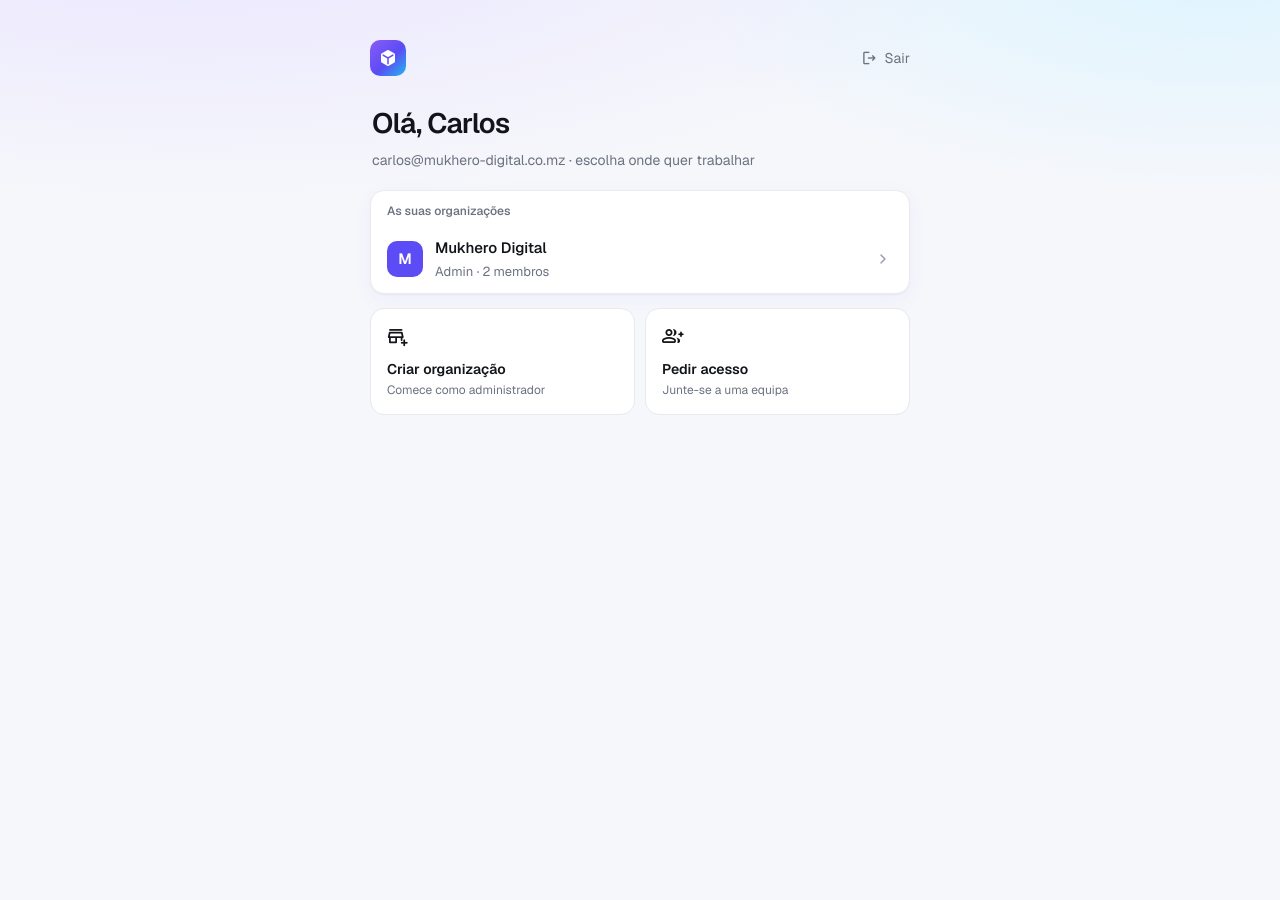
Test: routing & auth › validates the create-organisation form
Click the button "Criar organização Comece como administrador" at (502, 362), box [370,308,635,415]
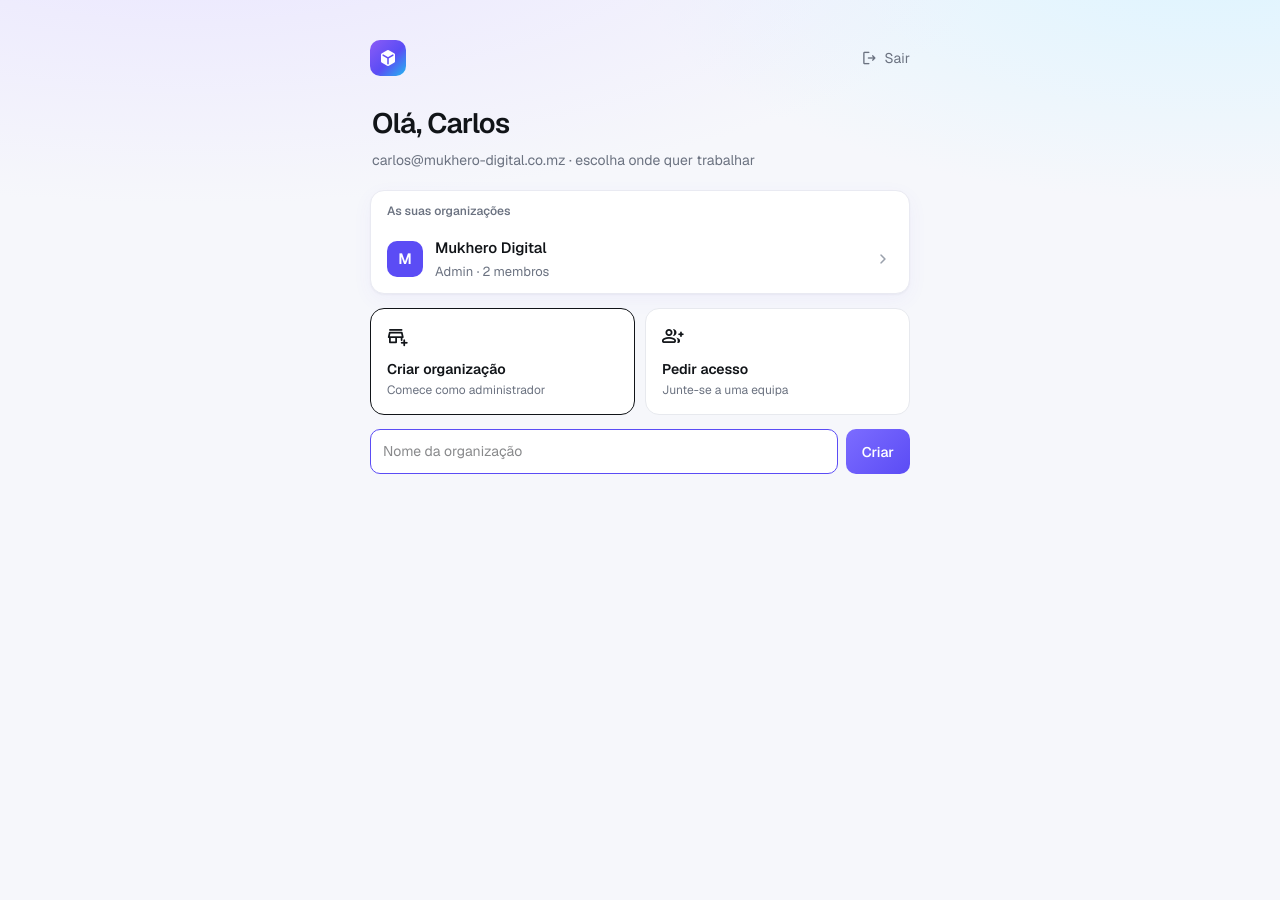
Click the button "Criar" at (878, 452), box [846,429,910,474]
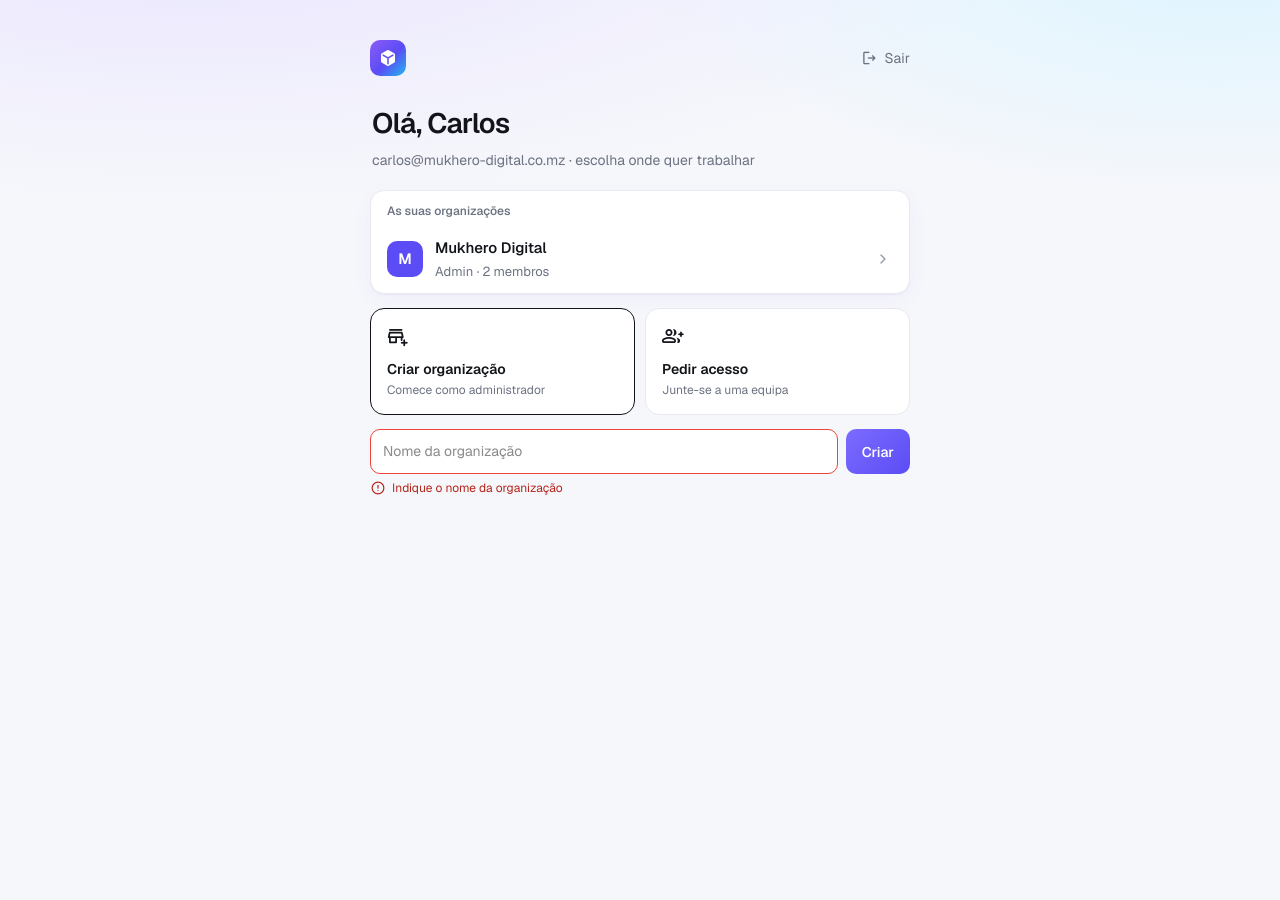
Expected: the text "Indique o nome da organização" is shown, [370,478,563,498]
Type "Loja Nova" into the field labelled "Nome da organização" at (604, 452), box [370,429,838,474]
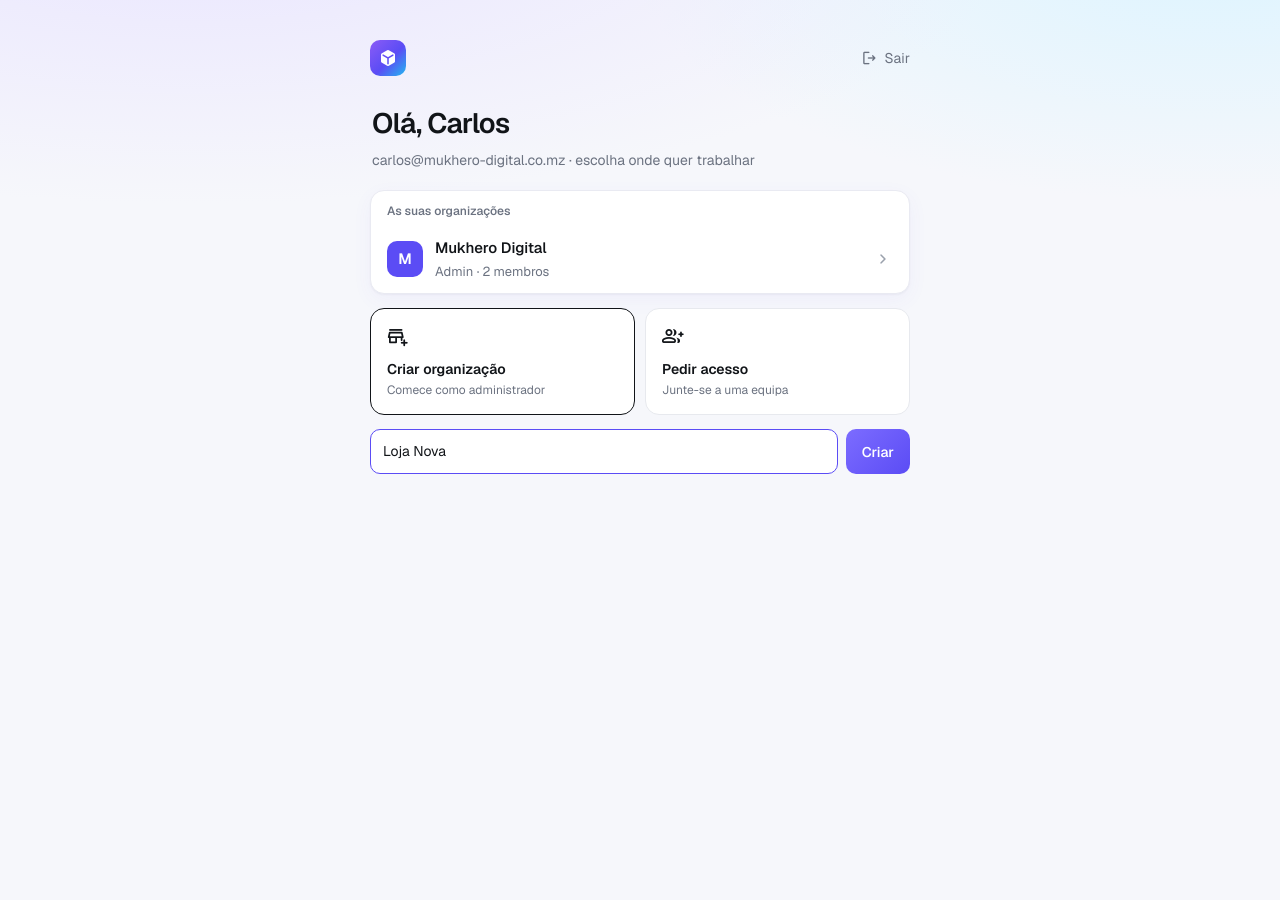
Click the button "Criar" at (878, 452), box [846,429,910,474]
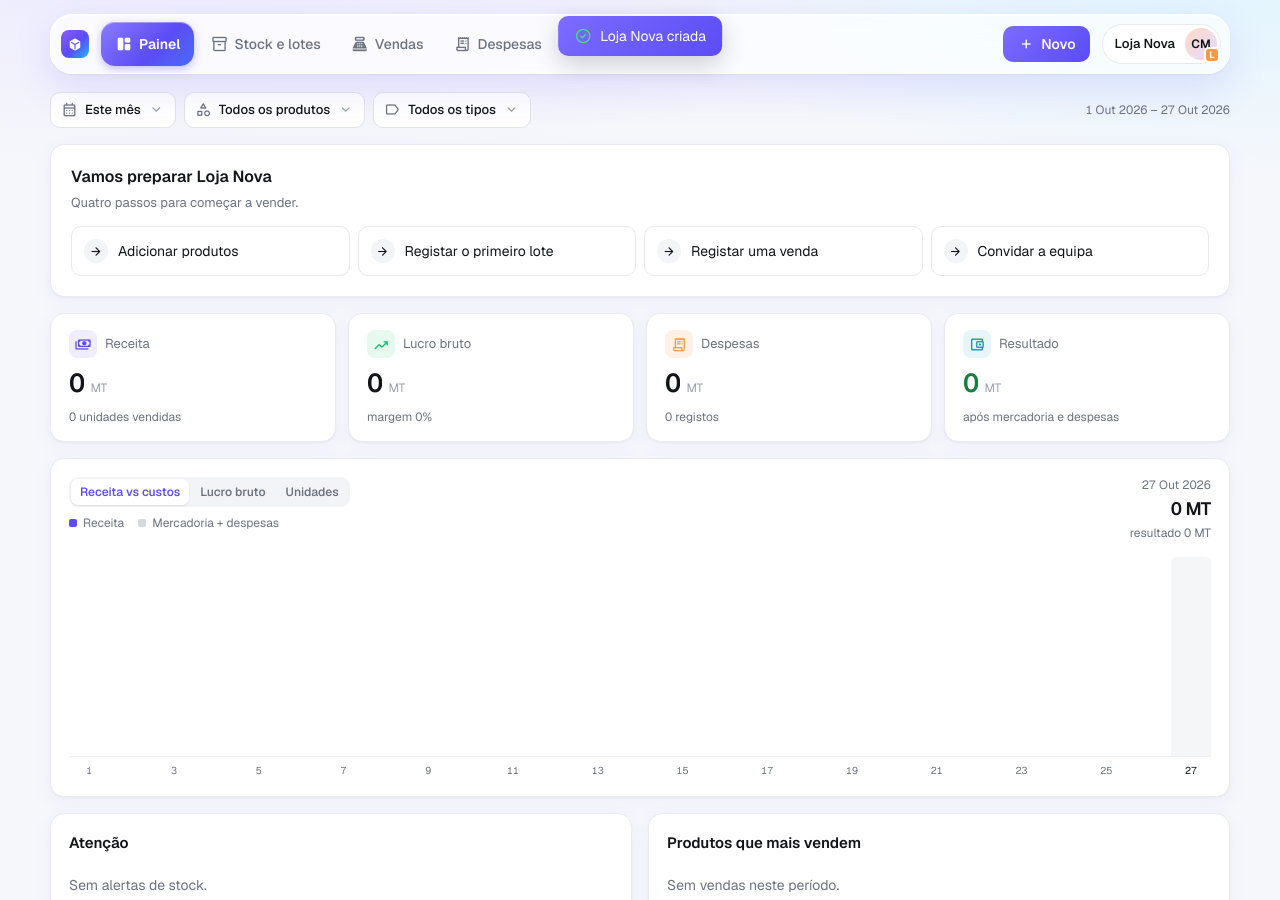
Expected: the heading "Vamos preparar Loja Nova" is shown, [71,166,272,186]
